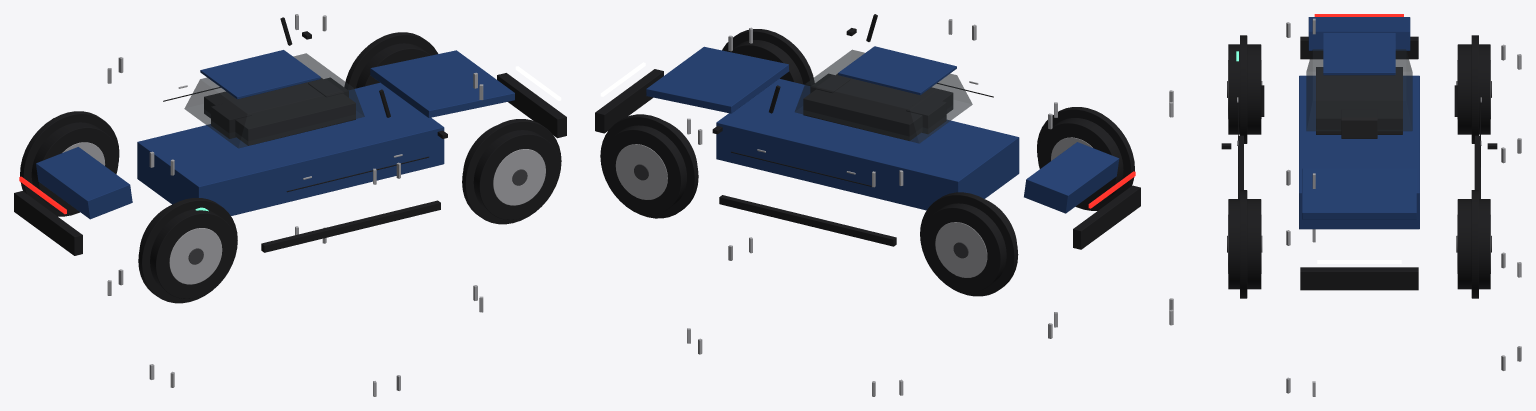
File: EV_Blue.glb
3 renders of one model, left to right at view 1: azimuth 30°, elevation 25°; view 2: azimuth 150°, elevation 25°; view 3: azimuth 270°, elevation 25°, orthographic. The views are drawn at different scales.
Parts seen in each view (by area): view 1: EV_Blue; view 2: EV_Blue; view 3: EV_Blue.
Boxes of the visible parts, x1,y1,x2,y2 form: EV_Blue: (14, 14, 566, 396); EV_Blue: (595, 14, 1140, 396); EV_Blue: (1169, 14, 1521, 396).
Size of the model in its own units: 4.61 by 2.29 by 2.89.
